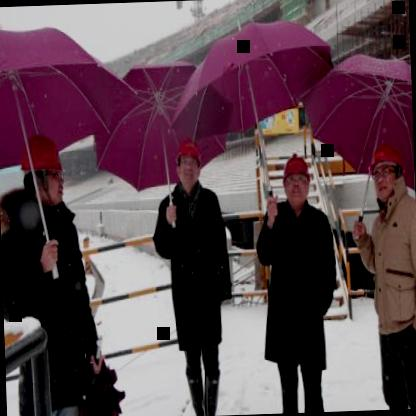helmet: (25, 136, 67, 213), (367, 140, 407, 201), (280, 152, 313, 210), (172, 138, 204, 189)
